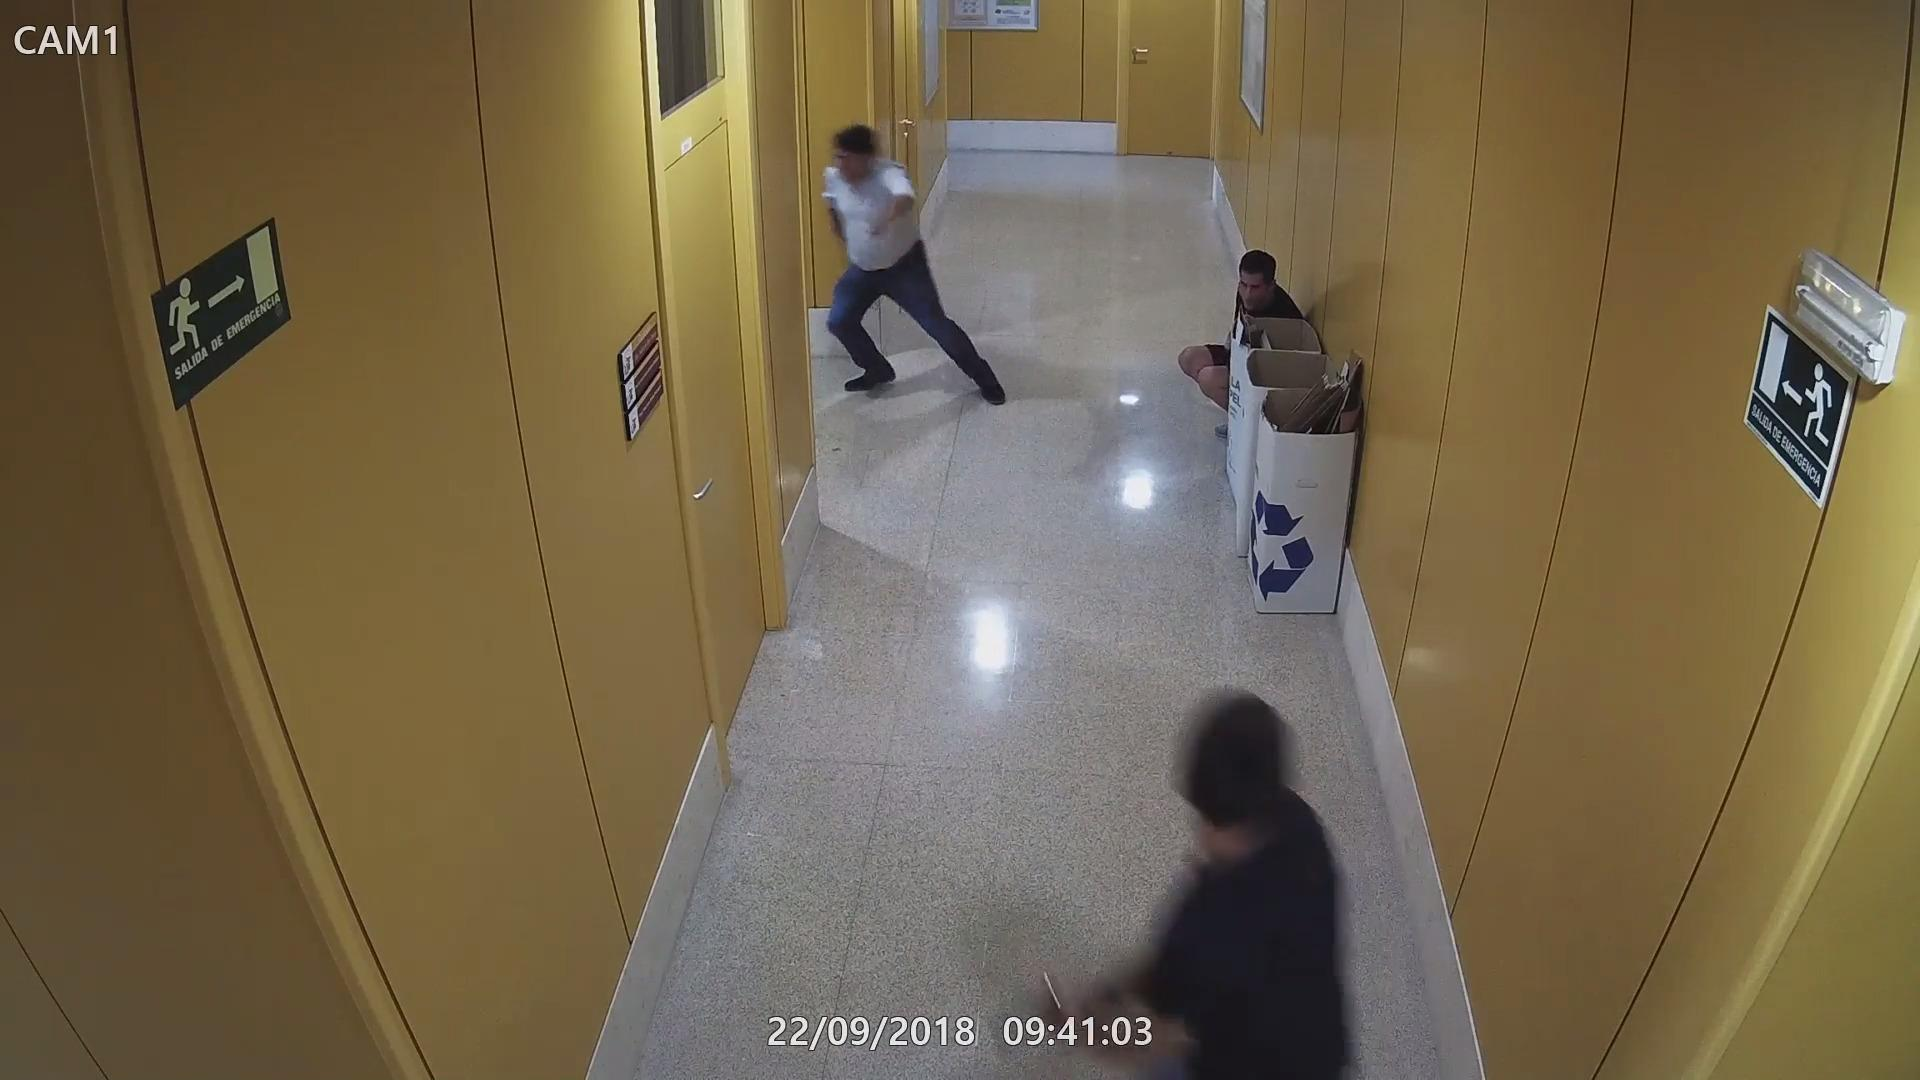Handgun: (1010, 945, 1080, 1018)
